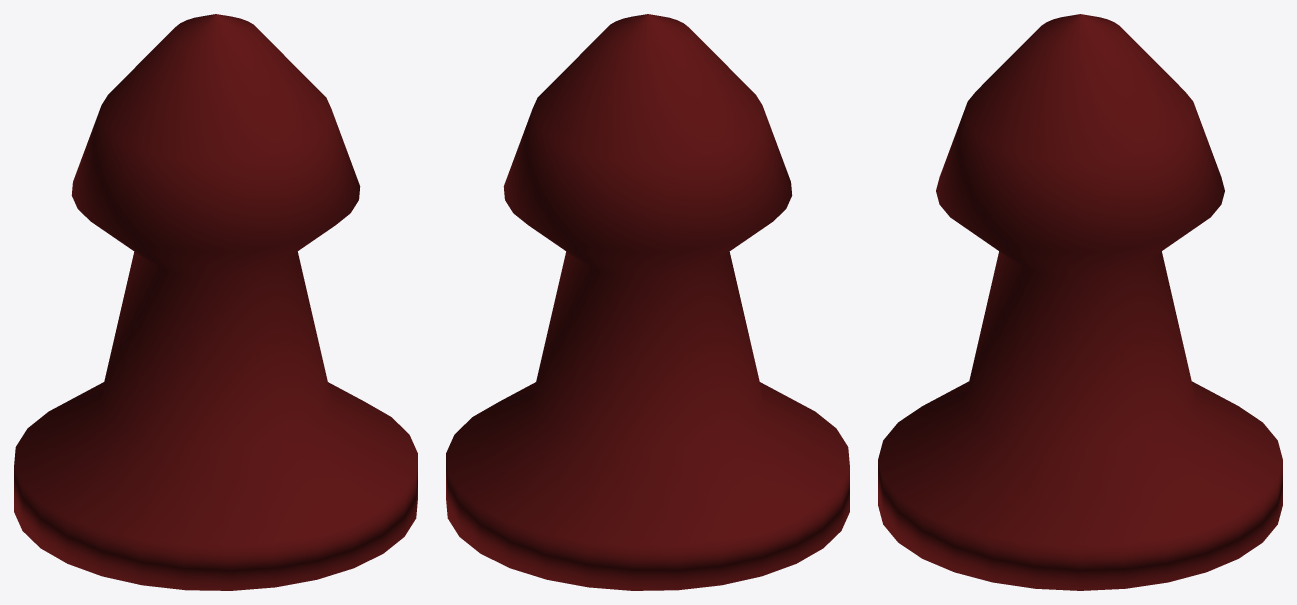
Rendered from b-bishop.glb.
The picture shows the model from 3 angles, left to right: view 1: azimuth 30°, elevation 25°; view 2: azimuth 150°, elevation 25°; view 3: azimuth 270°, elevation 25°; orthographic projection.
Visible parts, largest first — view 1: b-bishop; view 2: b-bishop; view 3: b-bishop.
Boxes of the visible parts, x1,y1,x2,y2 form: b-bishop: (14, 14, 417, 590); b-bishop: (446, 14, 849, 590); b-bishop: (878, 14, 1282, 590).
Size of the model in its own units: 0.56 by 0.75 by 0.56.
